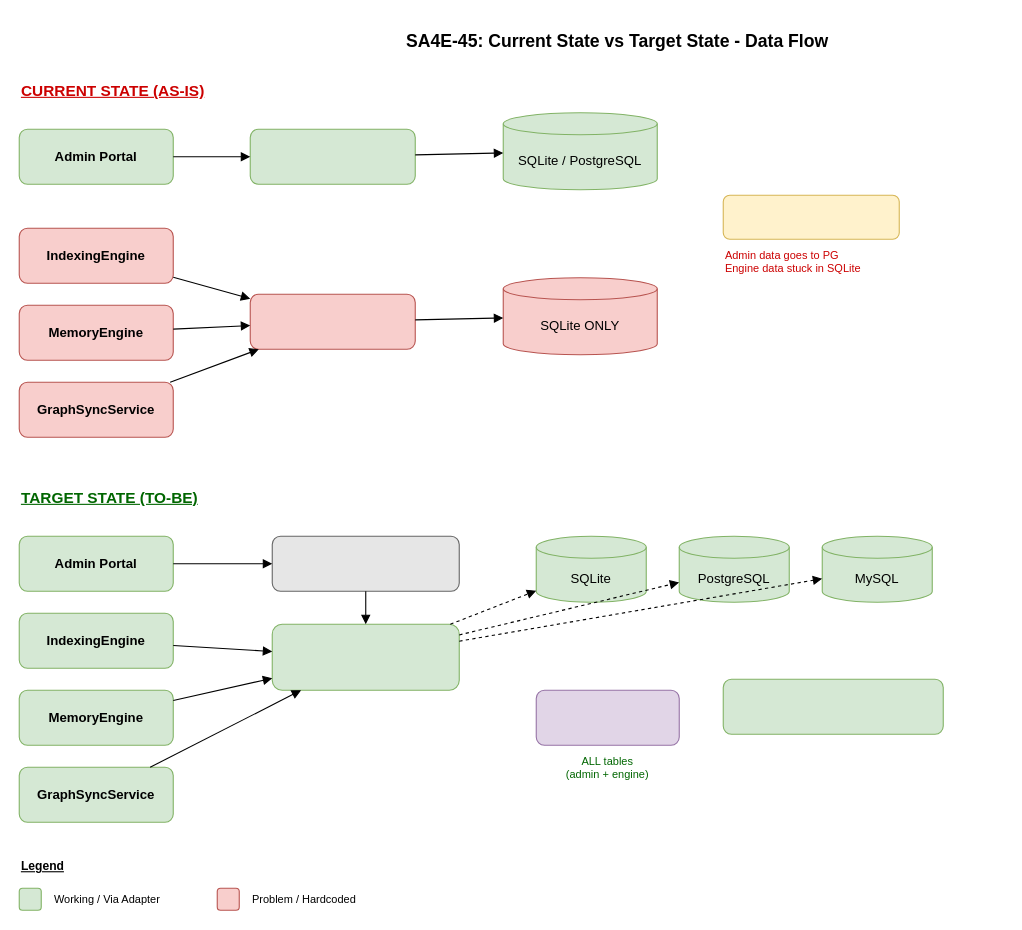
Image size: 1022x930. Some labels were removed from this diagram. Each missing label, with the centre of its shape:
better-sqlite3 (HARDCODED): pixel 332 321
Data Split Problem: pixel 810 216
DatabaseAdapter: pixel 332 156
DatabaseAdapter (Unified Interface): pixel 365 656
DatabaseAdapterFactory: pixel 365 563
Migration Tool: pixel 607 717
Unified: ALL data flows to selected DB engine: pixel 832 706
